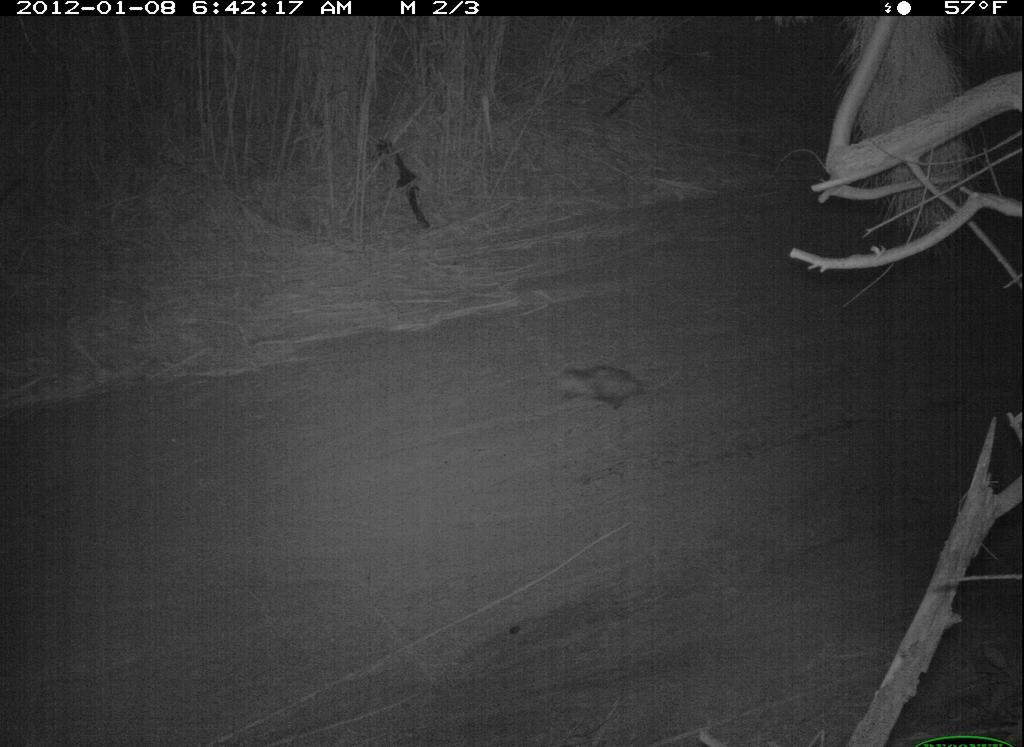opossum: (536, 354, 670, 429)
